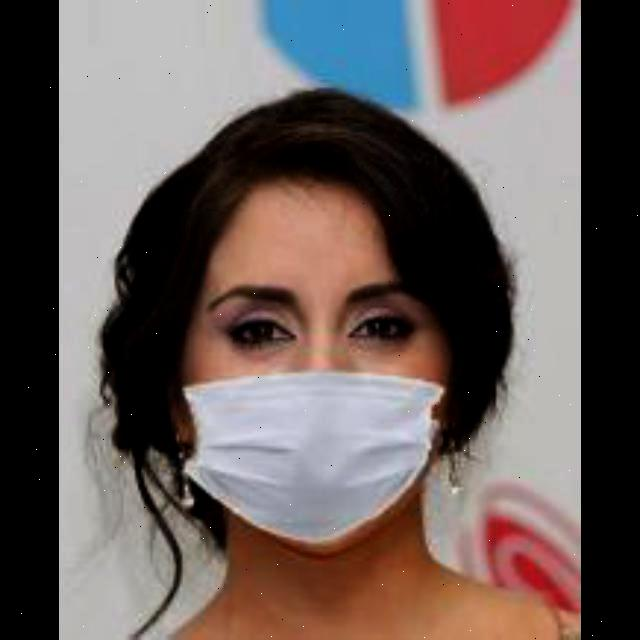suspicion: (125, 100, 509, 560)
